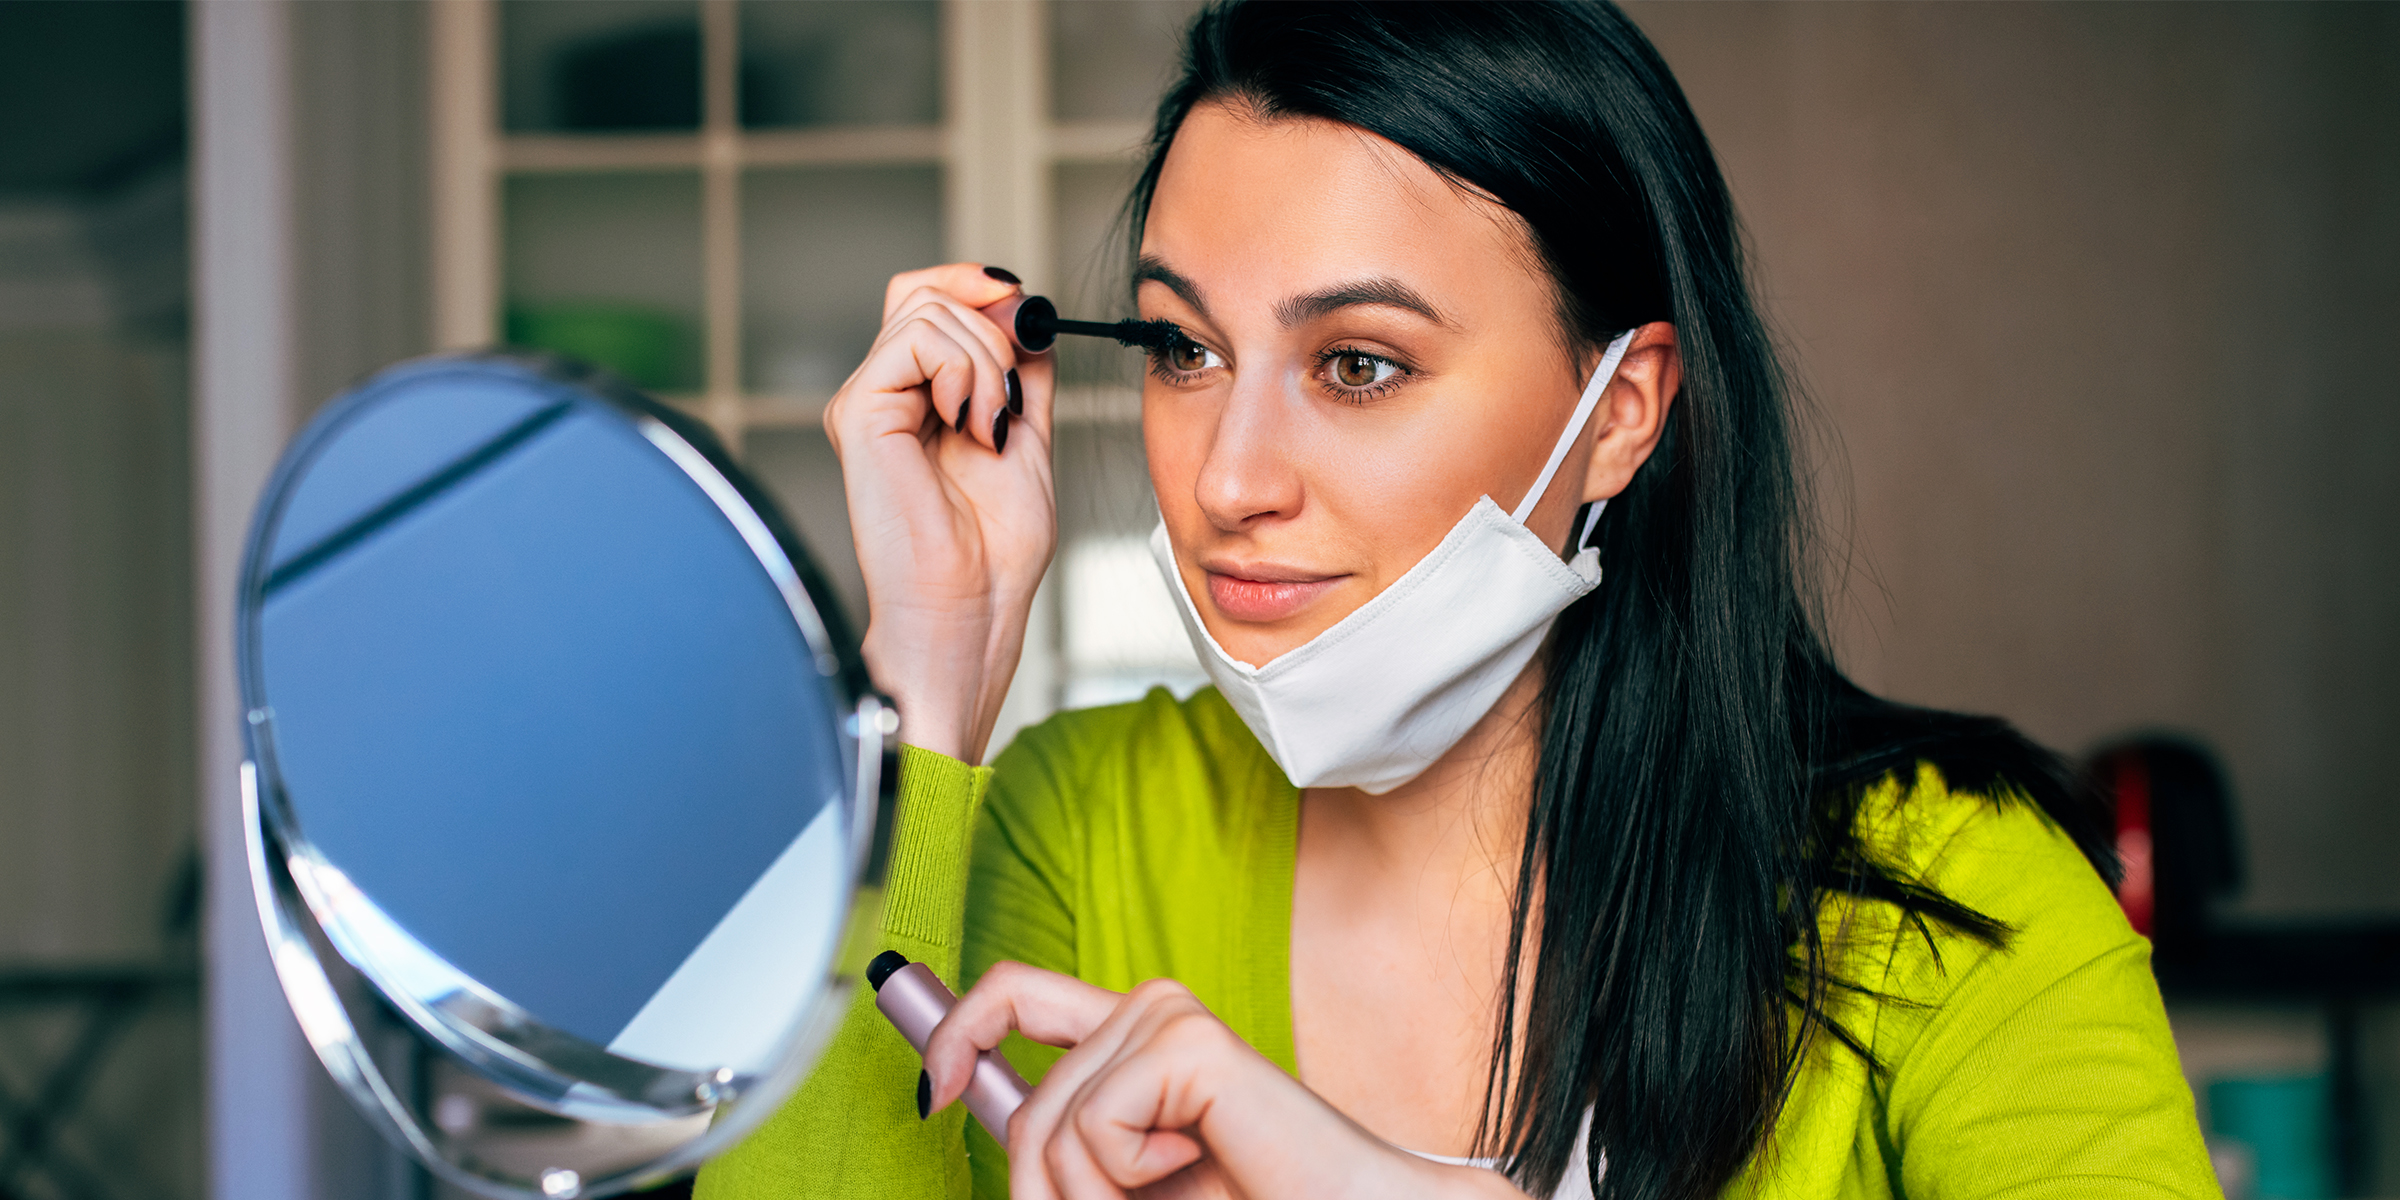without_mask: (1133, 218, 1550, 686)
